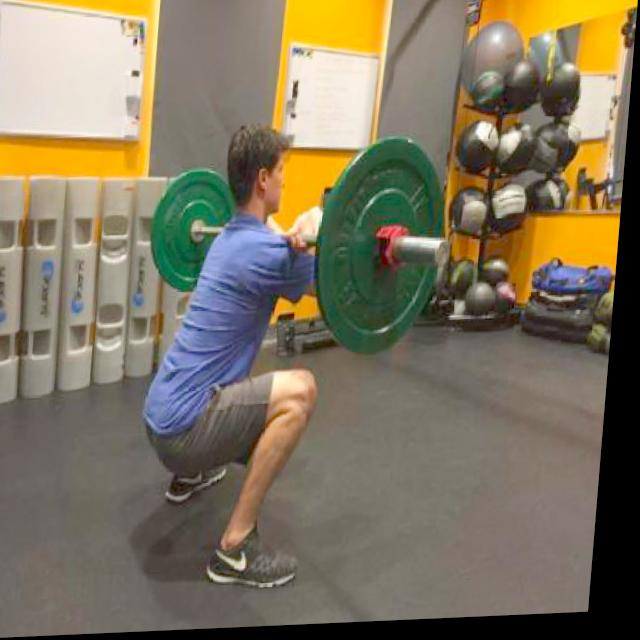barbell: (308, 136, 466, 363)
